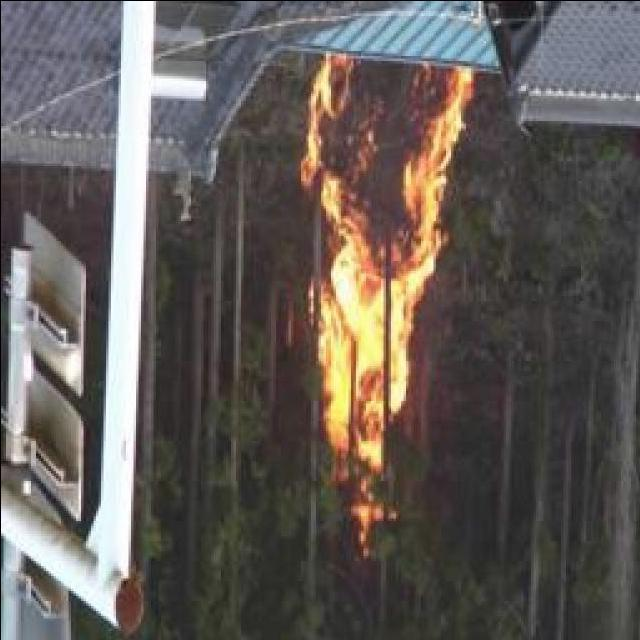Fire: (305, 61, 463, 464)
